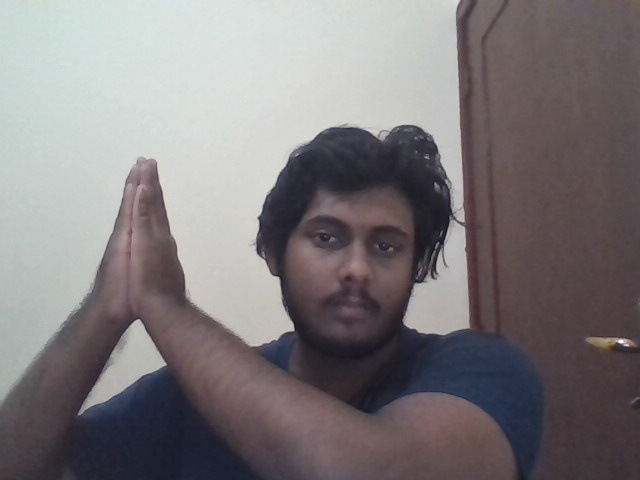namaste: (96, 156, 187, 325)
